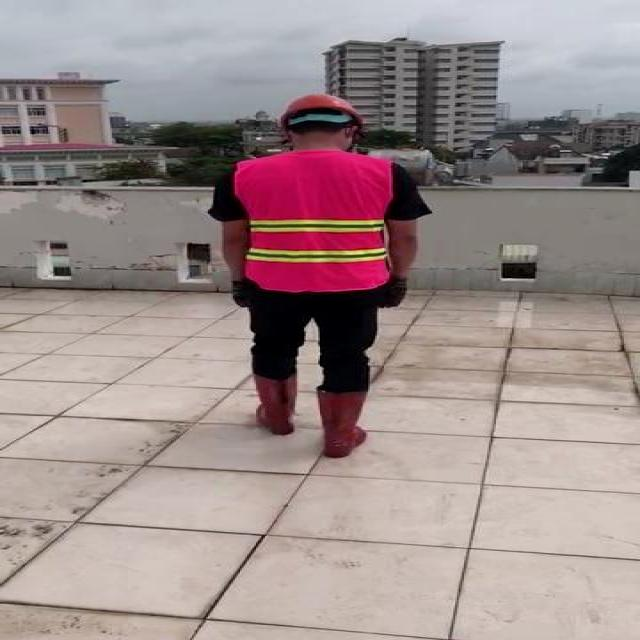boots: (318, 389, 370, 458), (250, 373, 298, 436)
hand_glove: (382, 277, 409, 309), (229, 279, 247, 309)
head_helmet: (273, 92, 372, 126)
person: (205, 97, 433, 460)
vest: (238, 151, 395, 293)
